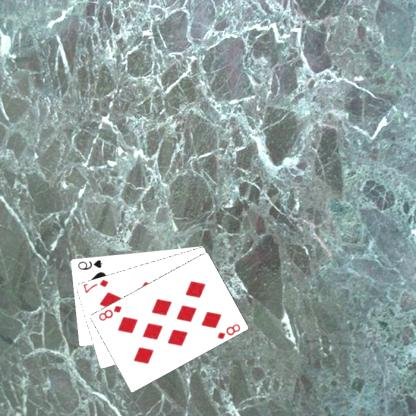7D: (83, 277, 111, 294)
8D: (97, 303, 125, 322), (216, 321, 243, 340)
9S: (77, 257, 105, 271)
